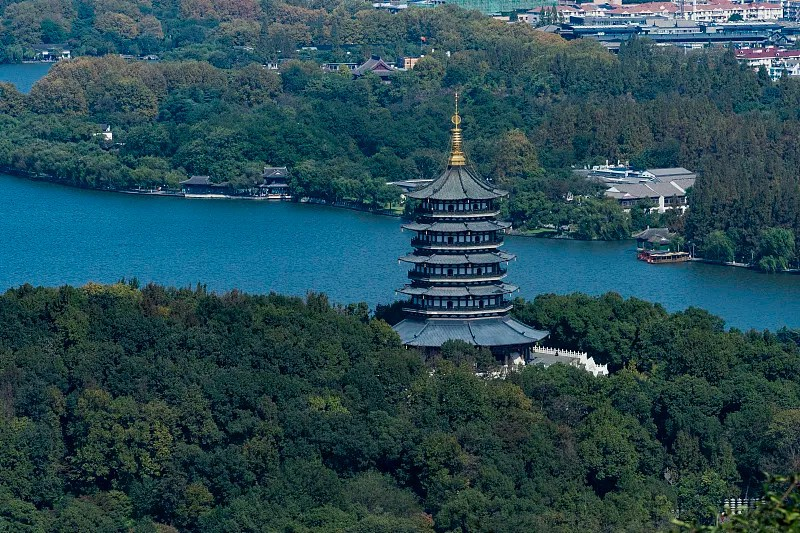Leifeng: (380, 90, 553, 382)
